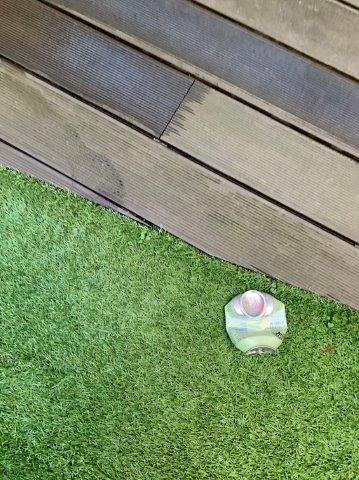kaleng: (224, 290, 287, 356)
